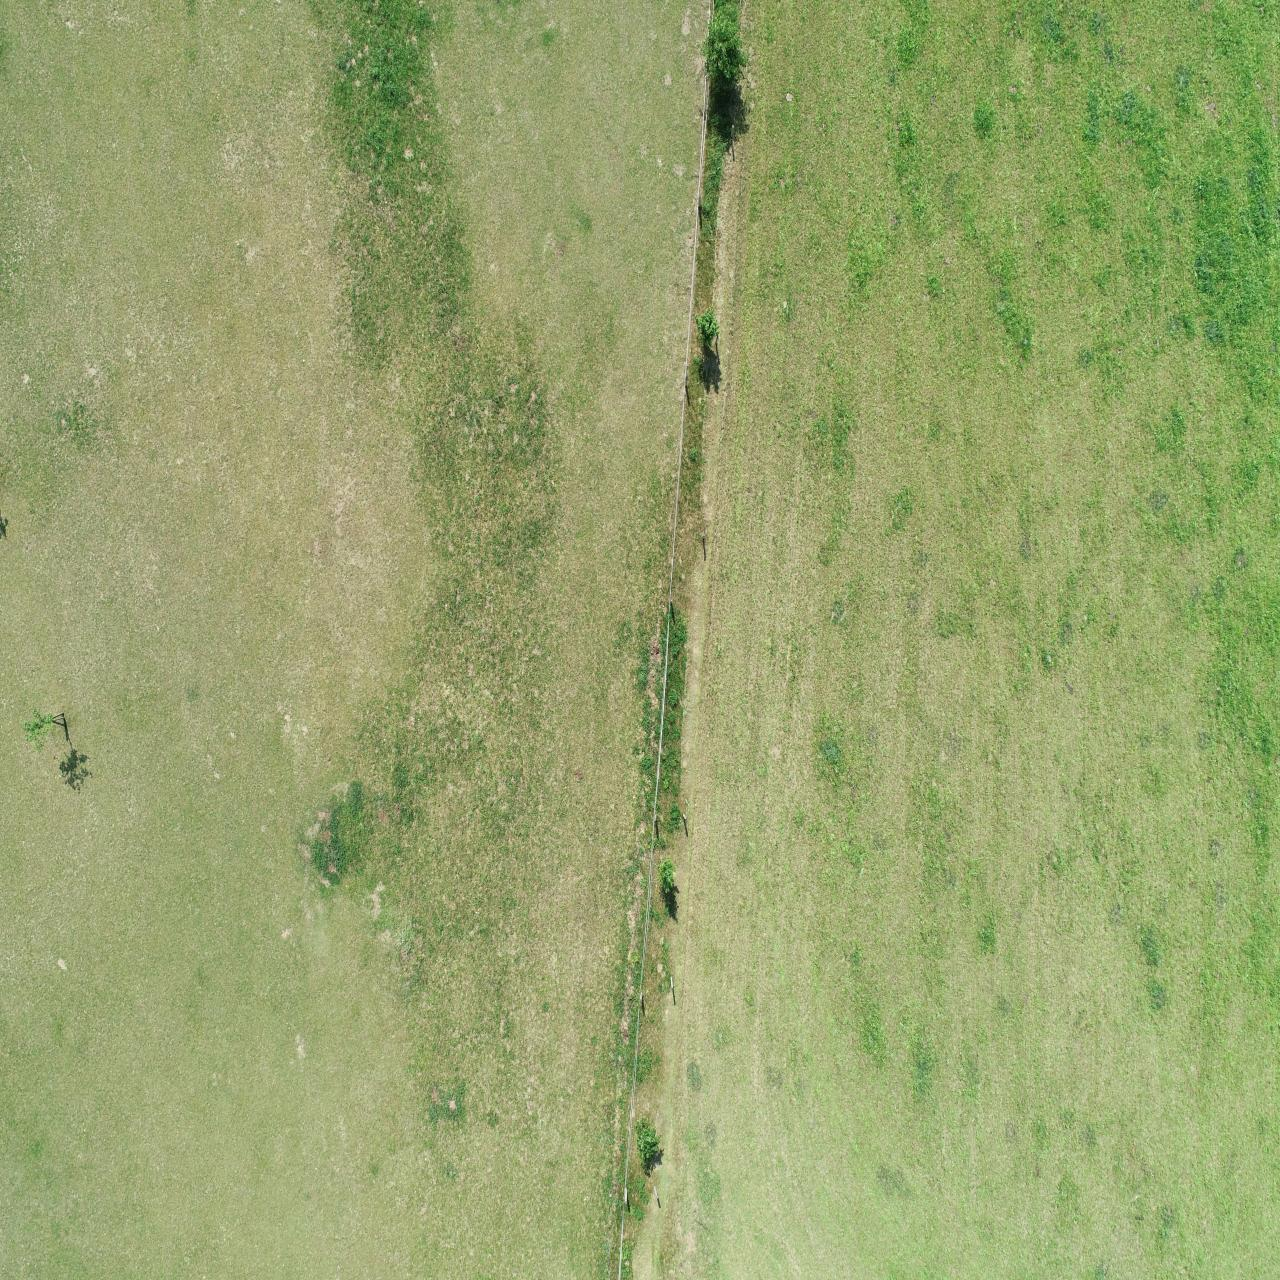cow: (7, 21, 38, 79), (1, 721, 29, 767)
